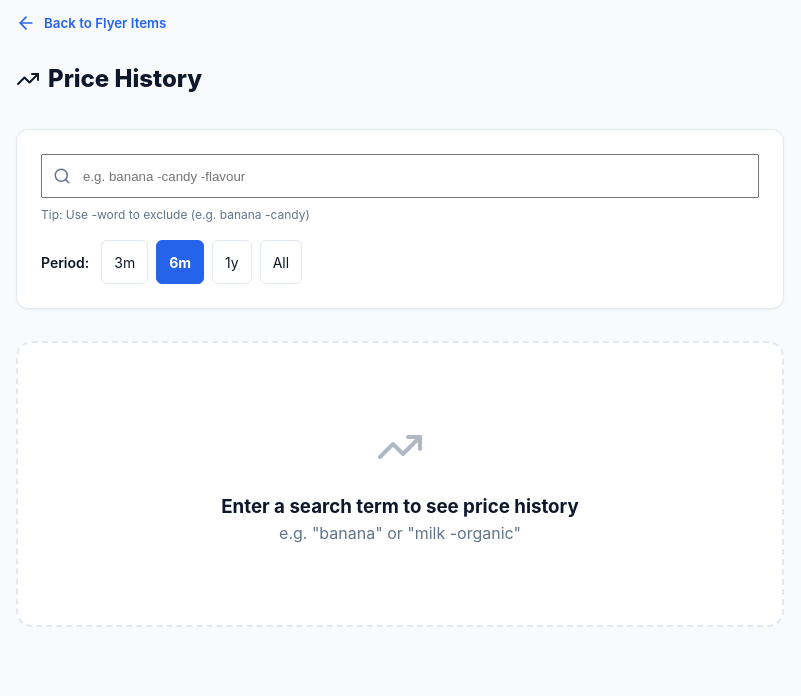
Scenario: PriceHistoryPage › removes exclude chip on click
Type "banana -candy" into the field with placeholder "e.g. banana -candy -flavour" at coordinates (400, 176), box 41,154 -> 759,198
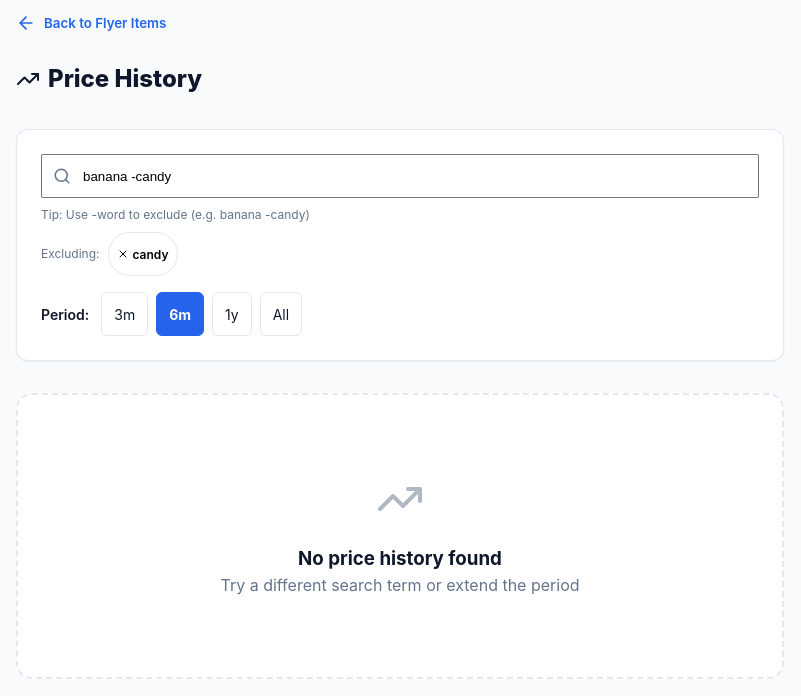
Click the button "candy" at coordinates (142, 254), box 108,232 -> 178,276
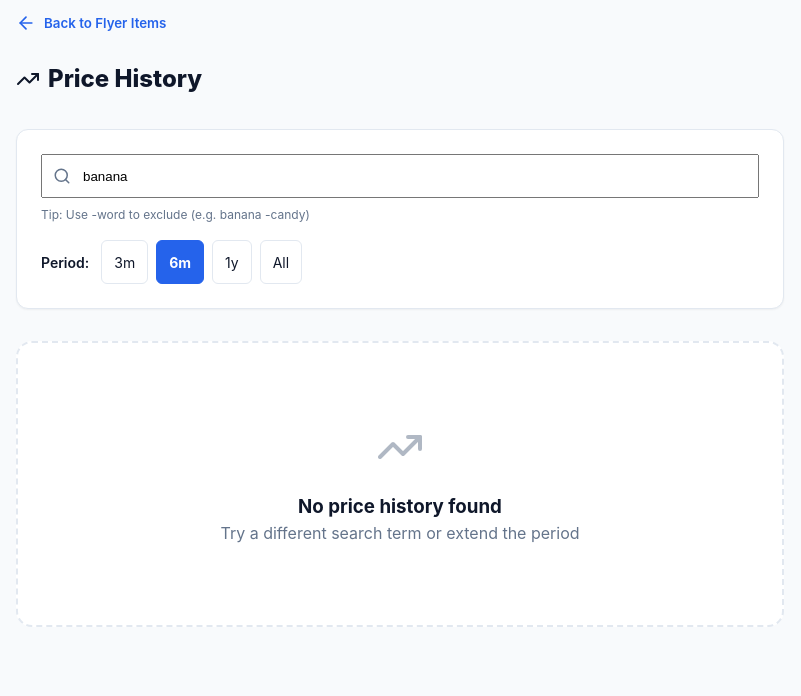
Result: the field with placeholder "e.g. banana -candy -flavour" holds "banana" at 41,154 -> 759,198
